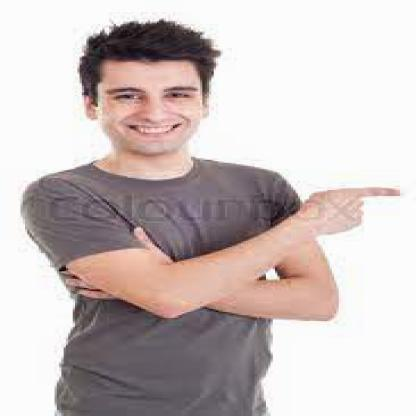Left: (286, 180, 408, 236)
